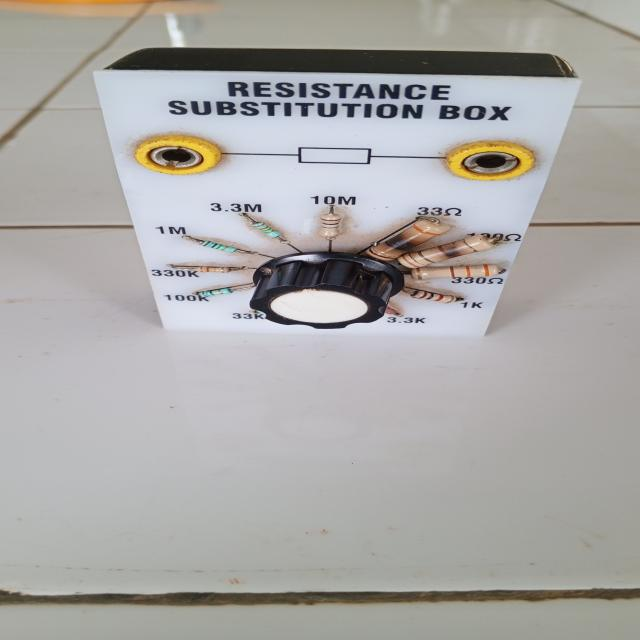Set of Resistances: (48, 31, 615, 359)
